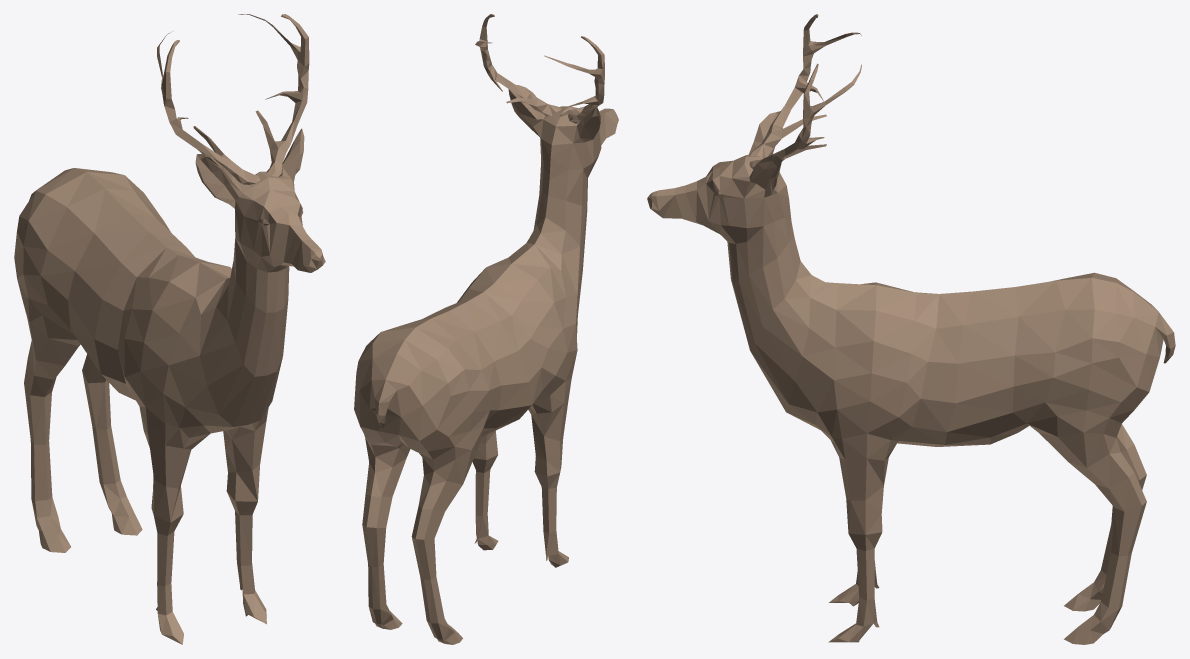
File: deer.obj
The picture shows the model from 3 angles, left to right: view 1: azimuth 30°, elevation 25°; view 2: azimuth 150°, elevation 25°; view 3: azimuth 270°, elevation 25°; orthographic projection. The views are drawn at different scales.
Parts seen in each view (by area): view 1: deer_1; view 2: deer_1; view 3: deer_1.
Part boxes in pixels (left/top/right/bottom): deer_1: left=14, top=14, right=325, bottom=644; deer_1: left=354, top=14, right=618, bottom=644; deer_1: left=647, top=14, right=1175, bottom=644.
Bounding box in the file's own units: 4.3 × 17.36 × 14.26.
